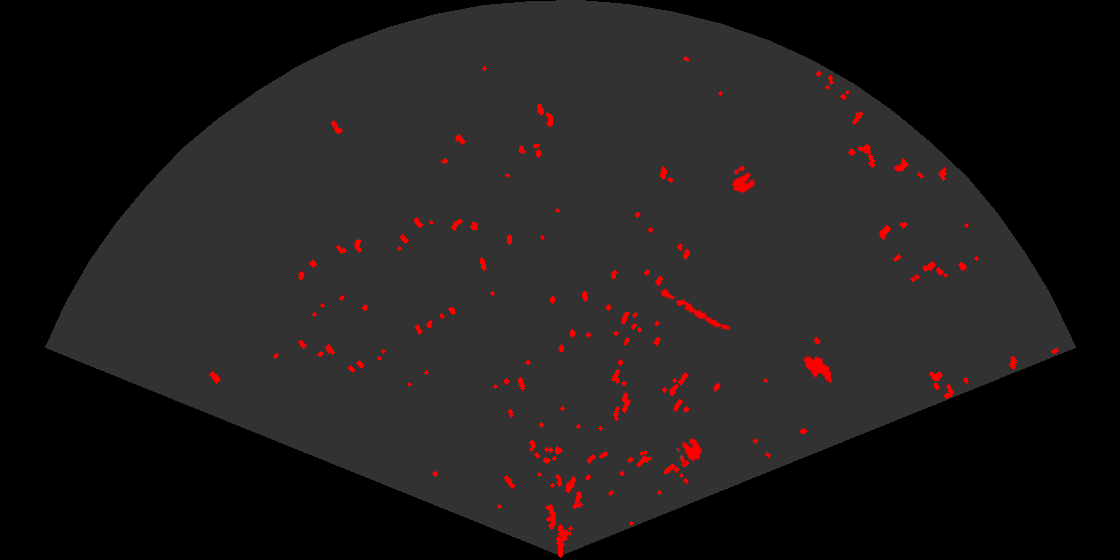AUV: (802, 354, 834, 385)
ball: (675, 436, 704, 465), (730, 164, 757, 195)
chain: (651, 283, 732, 332)
